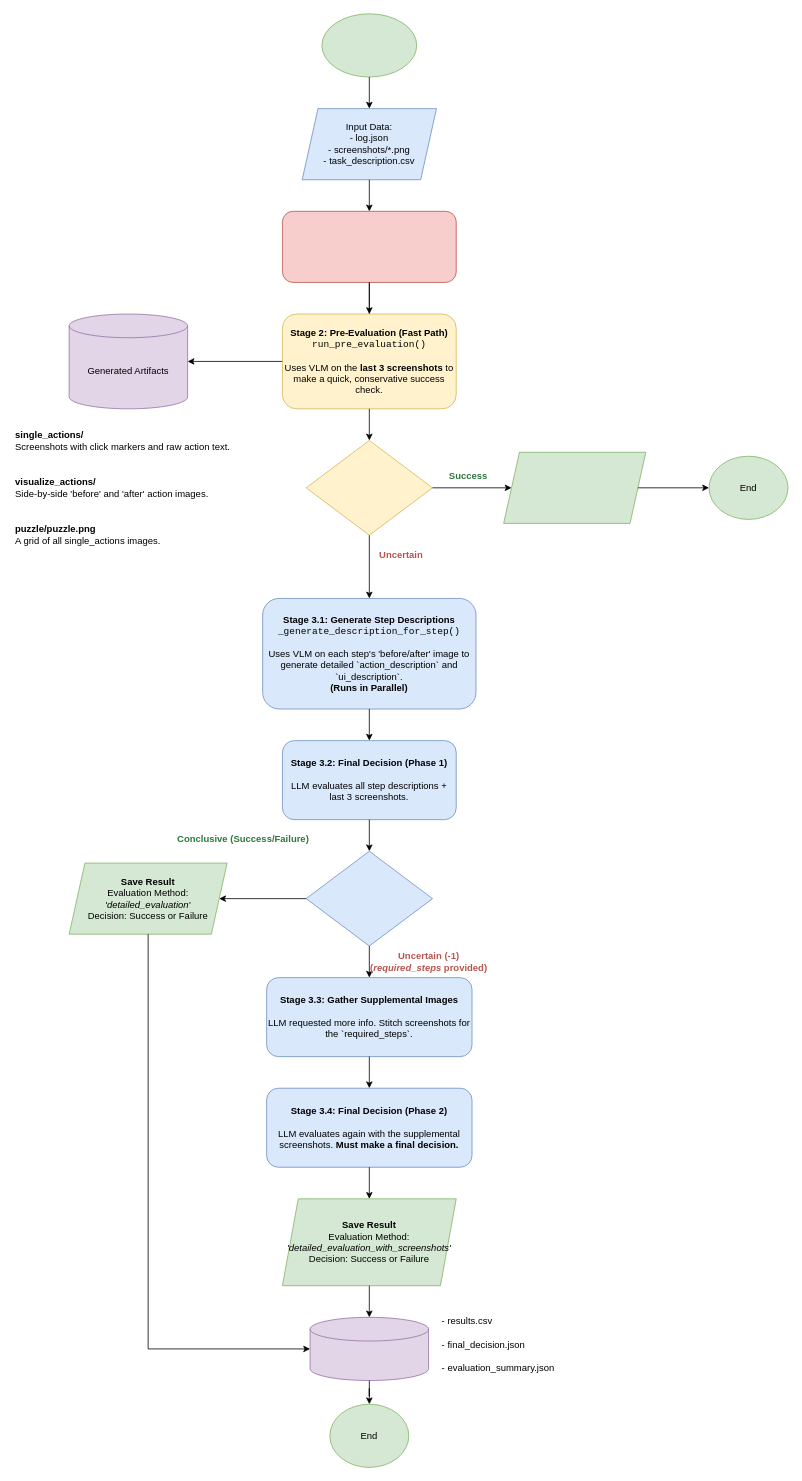
Image size: 802x1481. Some labels were removed from this diagram. Here are the shapes that lost their labels. From the top down, the box of each, then its label:
(321, 13, 417, 77): Start Evaluation
(282, 211, 456, 282): Stage 1: Visualize Actions visualize_and_save_actions()
(305, 440, 433, 535): Pre-evaluation Decision?
(503, 451, 646, 523): Save Result Evaluation Method: 'pre_evaluation' Decision: Success
(305, 850, 433, 946): LLM Final Decision?
(309, 1317, 429, 1381): Final Output Files
